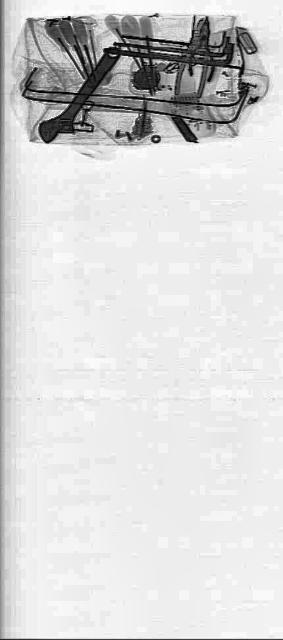Pliers: (172, 5, 216, 111), (186, 7, 220, 84)
Wrench: (36, 28, 124, 162)
